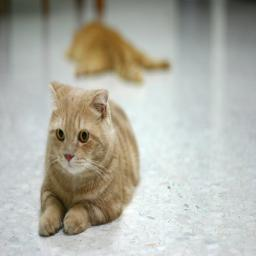catnose: (64, 148, 75, 164)
